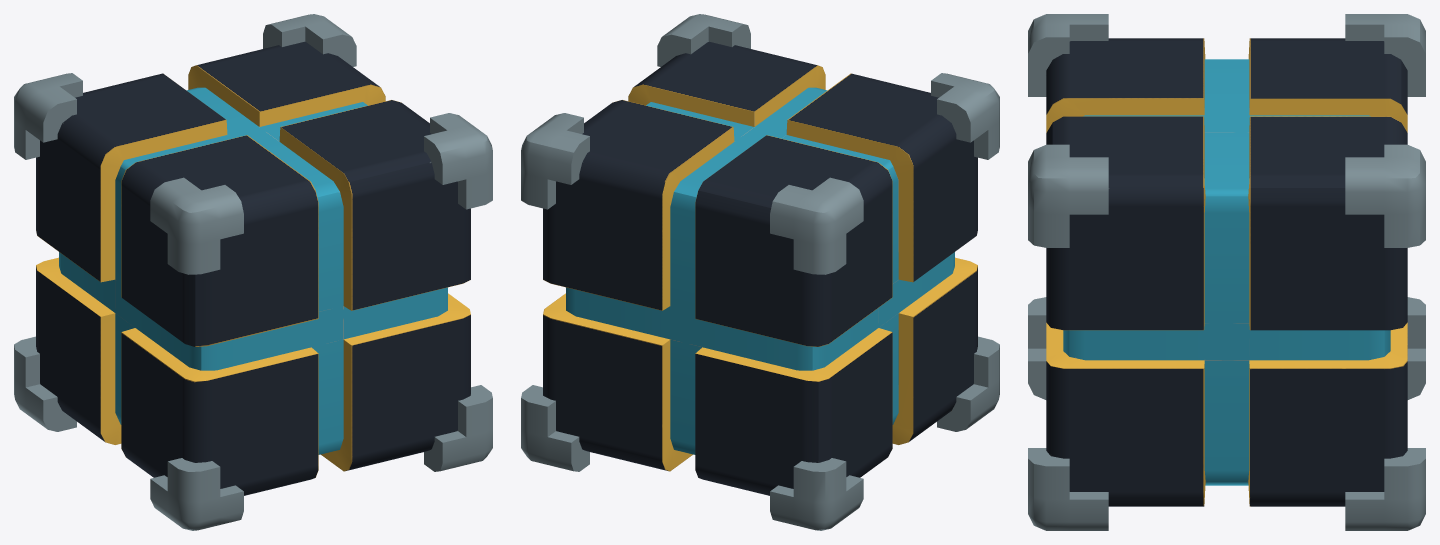
File: PowerCubeAfterTexture_2.fbx
3 renders of one model, left to right at view 1: azimuth 30°, elevation 25°; view 2: azimuth 150°, elevation 25°; view 3: azimuth 270°, elevation 25°, orthographic. The views are drawn at different scales.
Visible parts, largest first — view 1: PowerCube; view 2: PowerCube; view 3: PowerCube.
Part boxes in pixels (x1=…): PowerCube: x1=14, y1=14, x2=492, y2=530; PowerCube: x1=521, y1=14, x2=999, y2=530; PowerCube: x1=1028, y1=14, x2=1425, y2=530.
Bounding box in the file's own units: 200 × 200 × 198.
1 material, 1 textured.
